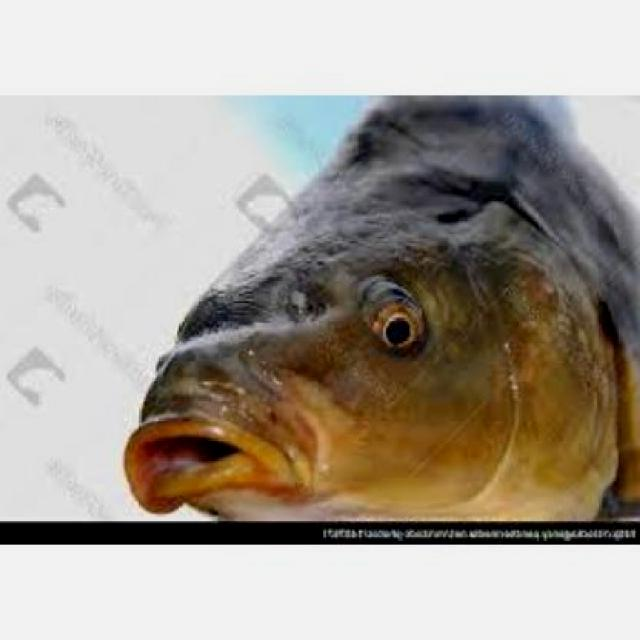ikan-mas: (120, 93, 640, 516)
